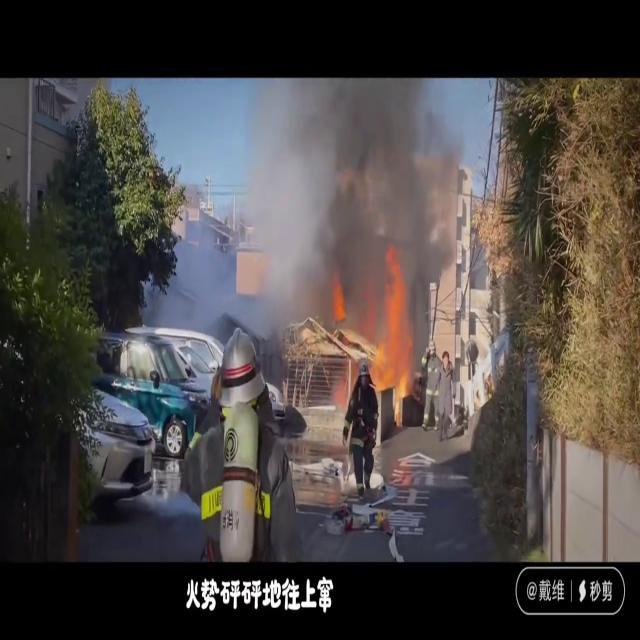Fire: (346, 259, 416, 414)
Smoke: (170, 78, 472, 315)
